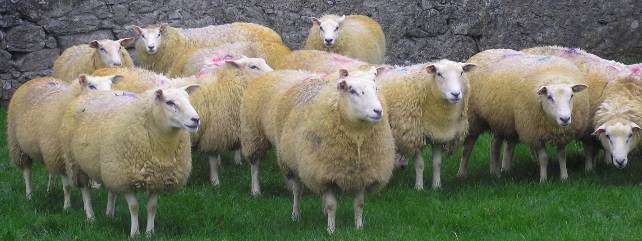sheep: (249, 62, 387, 235), (51, 91, 205, 205), (466, 49, 590, 180), (390, 51, 486, 205), (127, 8, 293, 69), (288, 1, 404, 70), (11, 64, 120, 137), (587, 56, 642, 173), (62, 41, 147, 78)
